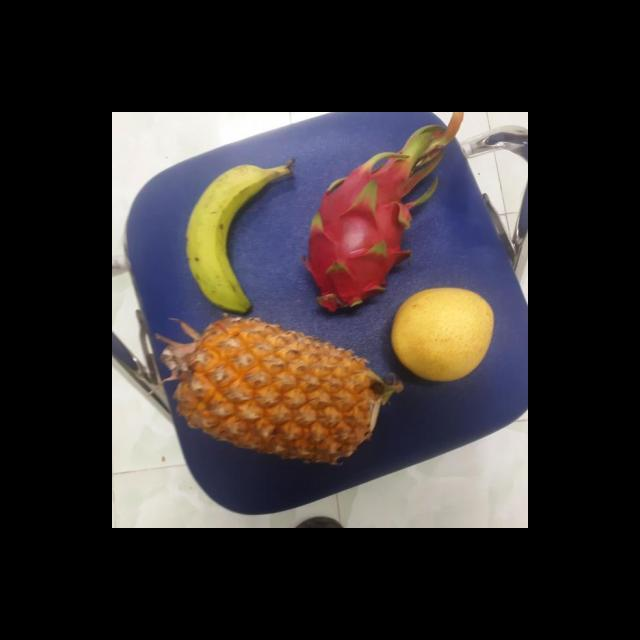banana: (180, 164, 284, 310)
pear: (392, 283, 494, 387)
pineapple: (162, 314, 386, 462)
pitaya: (294, 164, 428, 312)
